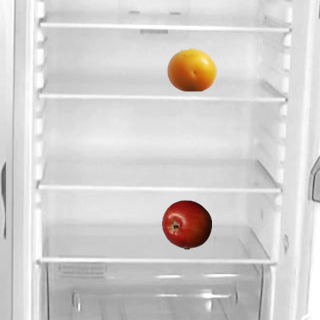Apple Braeburn: (161, 199, 211, 249)
Cherry Wax Yellow: (166, 44, 216, 94)
